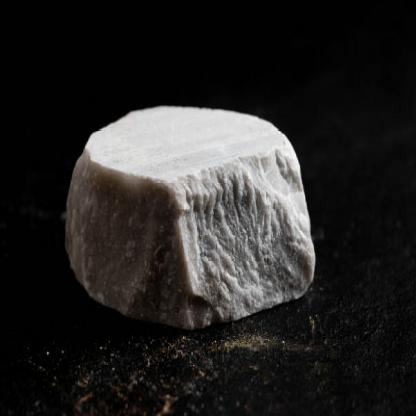Sedimentary_Limestone: (65, 105, 320, 331)
